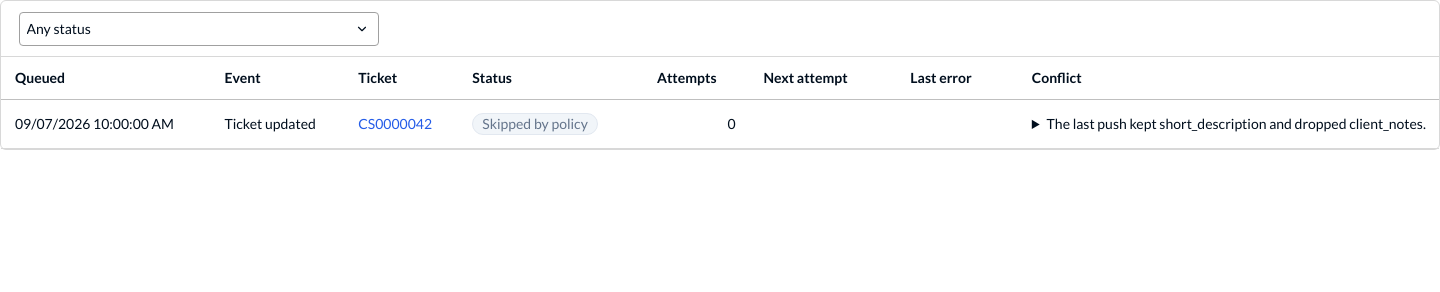
Scenario: OutboundTab › shows the kept and dropped fields of a conflict on expand
This screenshot has width=1440, height=292.
Step 1. Click the heading "The last push kept short_description and dropped client_notes." → (1192, 124), box top-left (1032, 114), bottom-right (1352, 133)
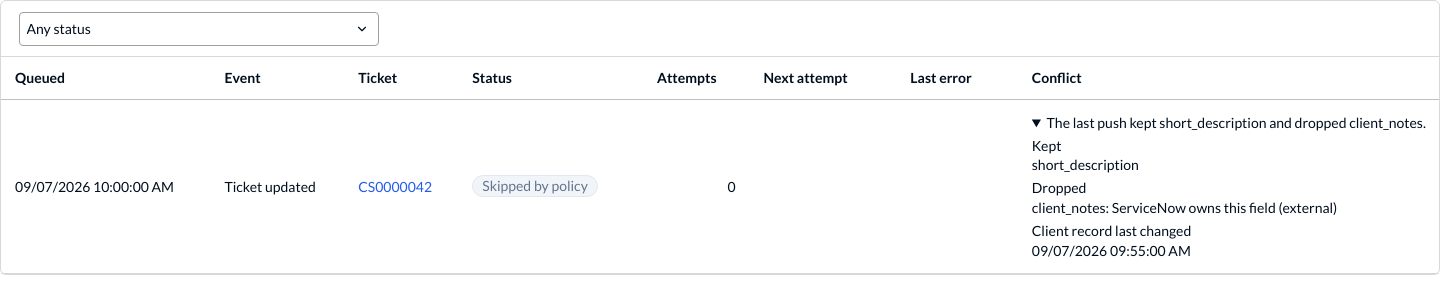
Expected: the list item "client_notes: ServiceNow owns this field (external)" is shown, top-left (1032, 198), bottom-right (1352, 218)
